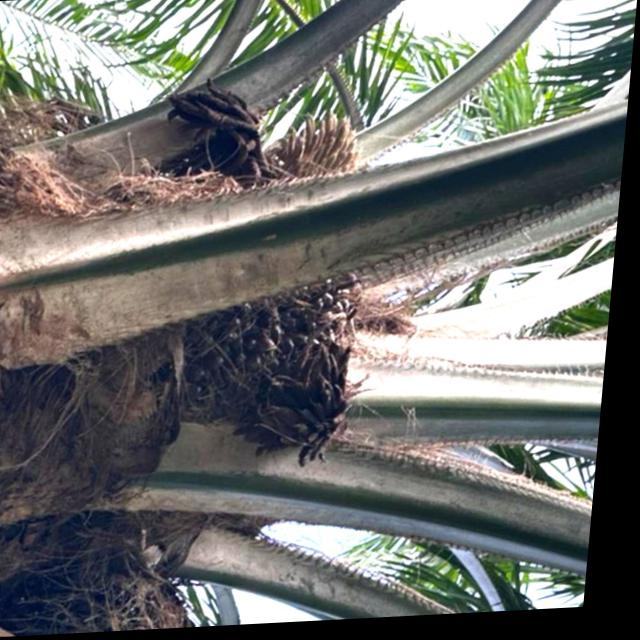ripe: (174, 277, 376, 427)
